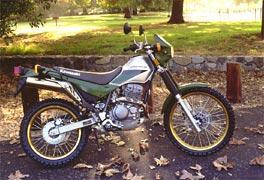motorcycle: (3, 24, 250, 173)
